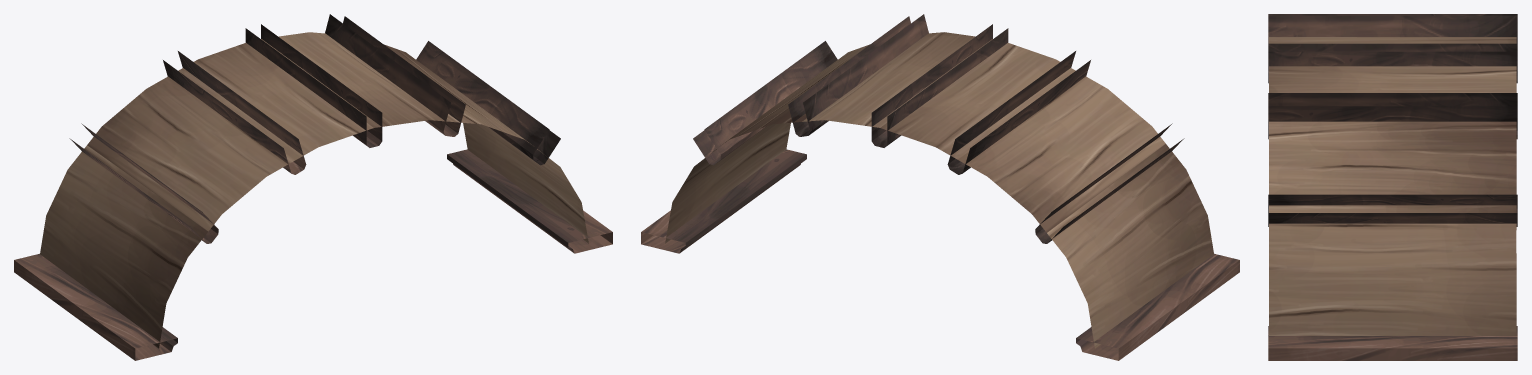
The model's file is Roof_ArchBig.fbx.
3 renders of one model, left to right at view 1: azimuth 30°, elevation 25°; view 2: azimuth 150°, elevation 25°; view 3: azimuth 270°, elevation 25°, orthographic. The views are drawn at different scales.
Parts seen in each view (by area): view 1: Roof_Arch_Big; view 2: Roof_Arch_Big; view 3: Roof_Arch_Big.
Boxes of the visible parts, <box> form: Roof_Arch_Big: <box>14,14,612,360</box>; Roof_Arch_Big: <box>641,14,1239,360</box>; Roof_Arch_Big: <box>1268,14,1517,360</box>.
Bounding box in the file's own units: 1.09 × 0.4116 × 0.481.
